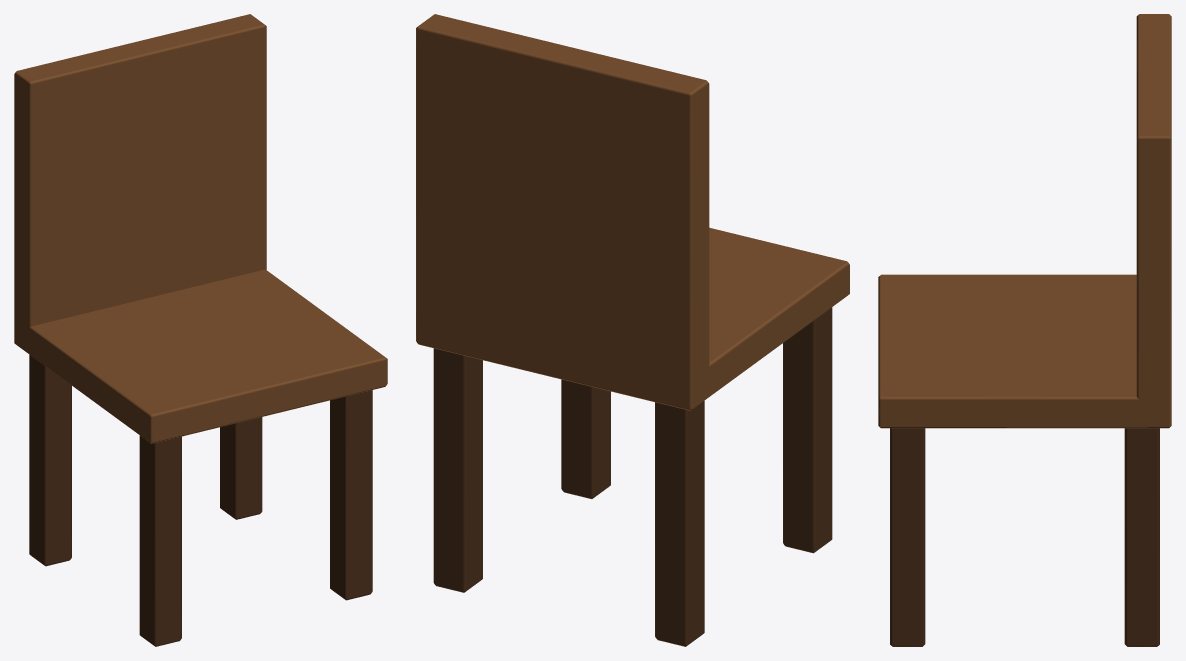
File: chair.48e990a4.glb
3 renders of one model, left to right at view 1: azimuth 30°, elevation 25°; view 2: azimuth 150°, elevation 25°; view 3: azimuth 270°, elevation 25°, orthographic. The views are drawn at different scales.
Parts seen in each view (by area): view 1: body; view 2: body; view 3: body.
Part boxes in pixels (bbox=[...]): body: bbox=[14, 14, 387, 646]; body: bbox=[416, 14, 849, 646]; body: bbox=[878, 14, 1171, 646].
Size of the model in its own units: 0.5 by 0.97 by 0.5.
